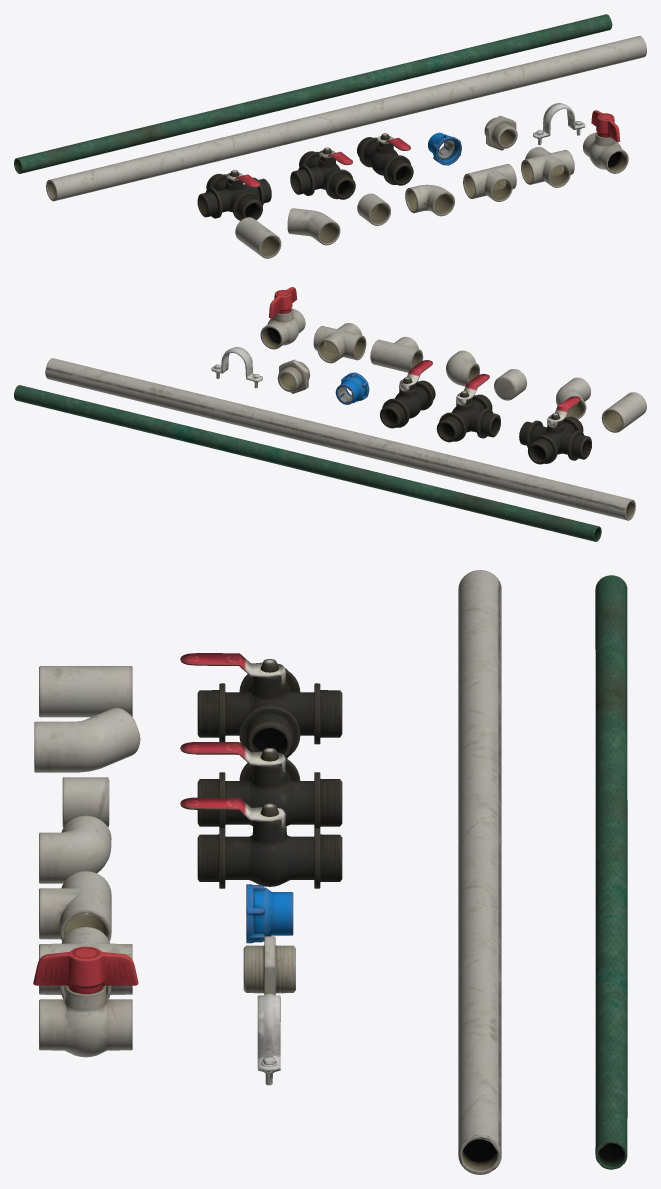
The model's file is modular_pipes_plastic_01.glb.
3 views of the same model, one above another, from view 1: azimuth 30°, elevation 25°; view 2: azimuth 150°, elevation 25°; view 3: azimuth 270°, elevation 25° (orthographic). The views are drawn at different scales.
Visible parts, largest first — view 1: garden_pipe; view 2: garden_pipe; view 3: garden_pipe.
Part boxes in pixels (x1,y1,x2,y2): garden_pipe: (14,14,646,258); garden_pipe: (14,287,646,541); garden_pipe: (33,570,627,1174).
Size of the model in its own units: 0.8157 by 0.0758 by 0.3618.
Materials: 1 (1 with a texture image).
